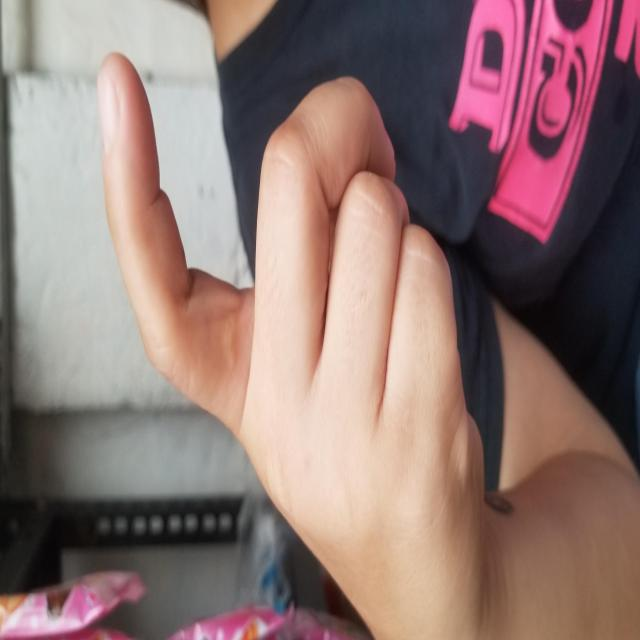X: (0, 97, 589, 485)
